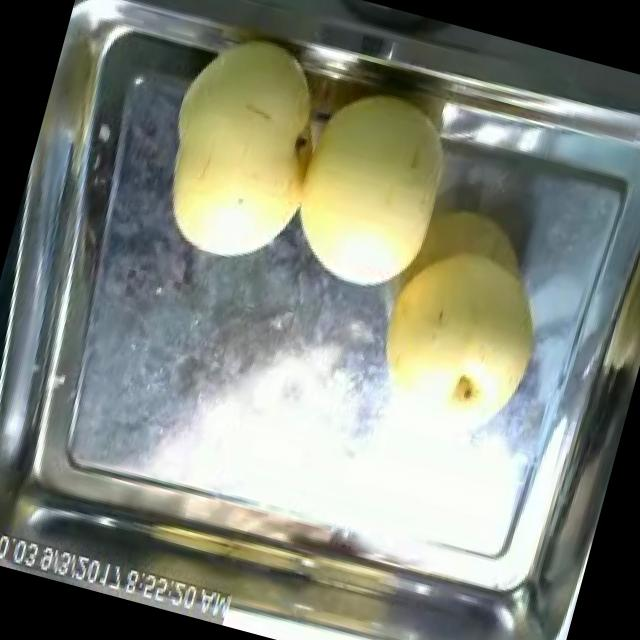Fruit: (126, 8, 352, 289), (272, 67, 474, 308), (354, 223, 566, 445)
